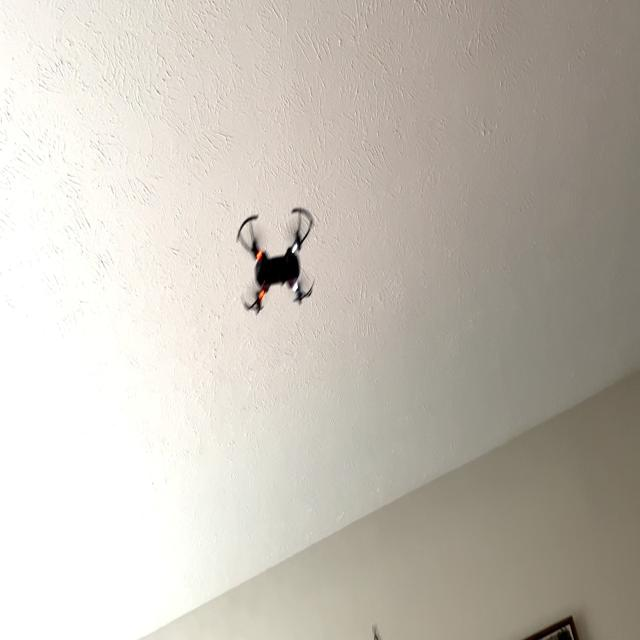drone: (225, 185, 328, 331)
